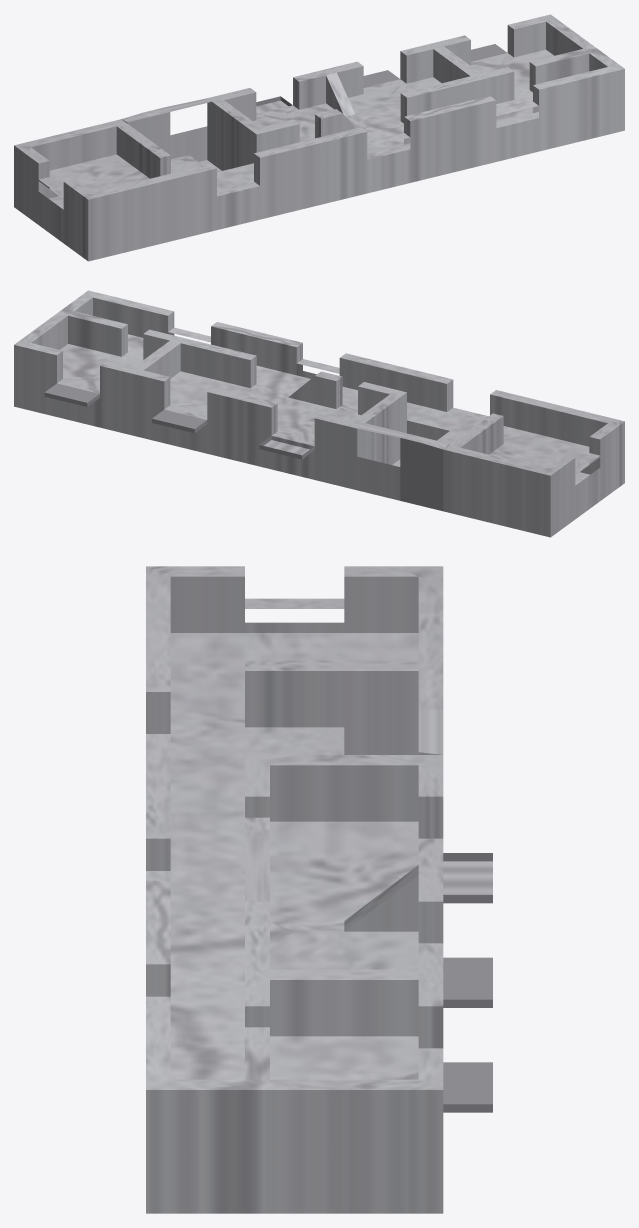
Rendered from city_building_02.fbx.
3 renders of one model, top to bottom at view 1: azimuth 30°, elevation 25°; view 2: azimuth 150°, elevation 25°; view 3: azimuth 270°, elevation 25°, orthographic. The views are drawn at different scales.
Visible parts, largest first — view 1: city_building_02; view 2: city_building_02; view 3: city_building_02.
Part boxes in pixels (bbox=[...]): city_building_02: bbox=[14, 14, 624, 261]; city_building_02: bbox=[14, 290, 624, 537]; city_building_02: bbox=[146, 566, 492, 1213].
Bounding box in the file's own units: 5000 × 562 × 1400.
